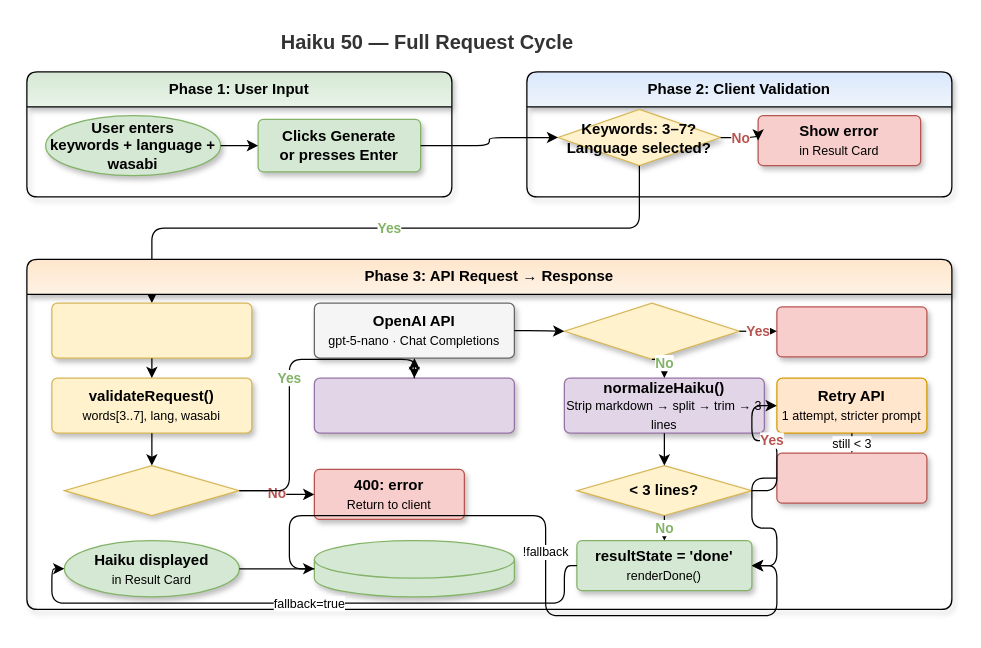
Image size: 981x648. Some labels were removed from this diagram. The shapes that lost their labels are listed below. From the top down, each one's centre as x and y in pixels, then its label:
At pixel 152 332: "fetch POST /generate-haiku AbortController (30s timeout)".
At pixel 652 332: "Content filter triggered?".
At pixel 852 333: "Show Profanity Modal Flagged words list".
At pixel 415 407: "buildPrompt() prompts.js — base + spice + safety".
At pixel 152 491: "Valid?".
At pixel 852 479: "Fallback haiku Stock text (free)".
At pixel 415 570: "Save to history localStorage (max 100)".
